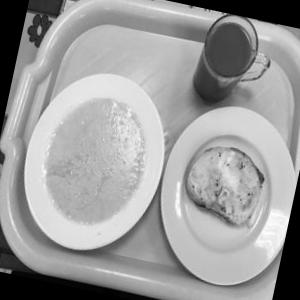cheese_sandwich: (176, 138, 280, 242)
coffee: (183, 11, 272, 118)
porridge: (13, 62, 181, 264)
